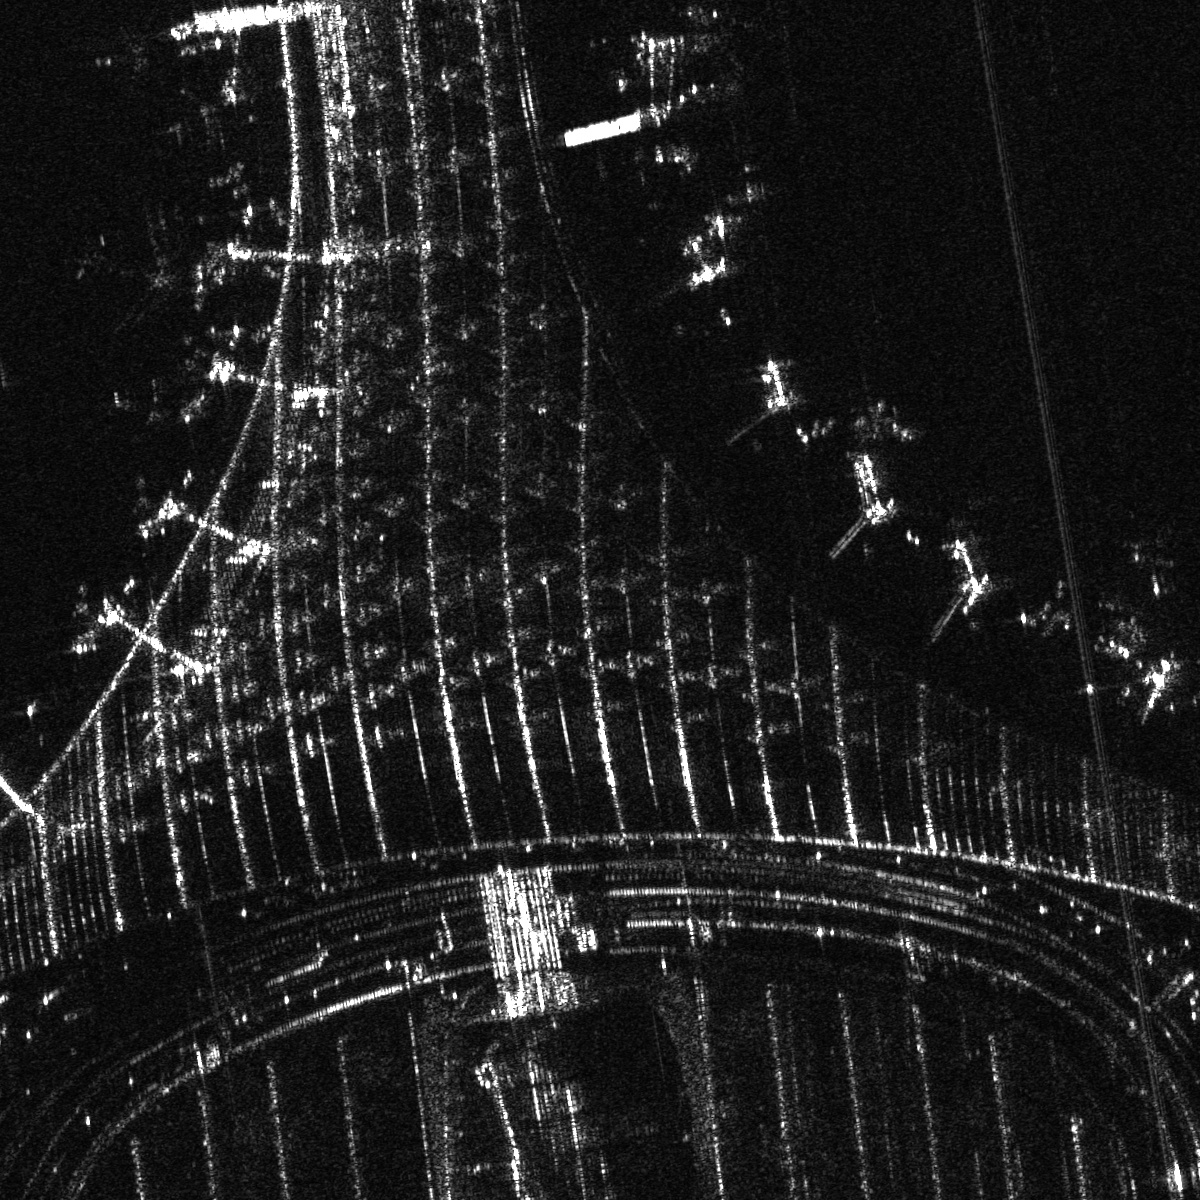A220: (113, 376, 177, 427)
Boeing787: (95, 23, 156, 84), (165, 86, 223, 149)
other: (74, 205, 189, 335)
